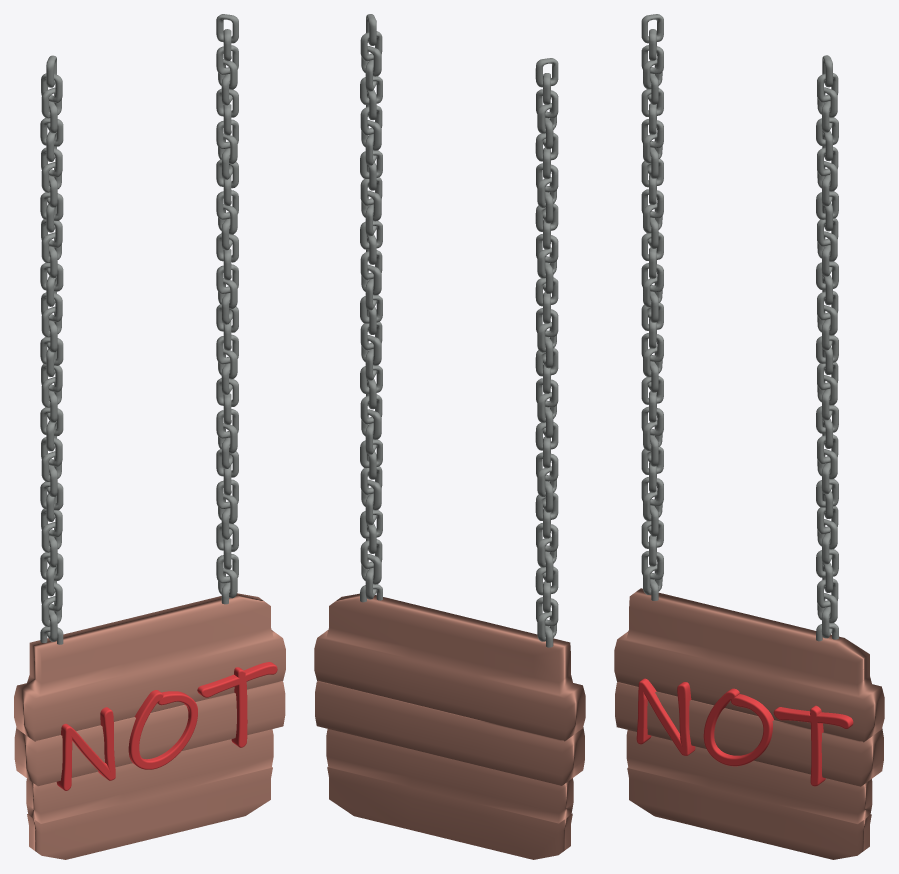
The model's file is SmallSign.fbx.
3 renders of one model, left to right at view 1: azimuth 30°, elevation 25°; view 2: azimuth 150°, elevation 25°; view 3: azimuth 330°, elevation 25°, orthographic.
Visible parts, largest first — view 1: Cube.013, Cube.014; view 2: Cube.013, Cube.014; view 3: Cube.013, Cube.014.
Part boxes in pixels (bbox=[...]): Cube.013: bbox=[14, 593, 285, 859]; Cube.014: bbox=[40, 14, 238, 644]; Cube.013: bbox=[314, 593, 585, 859]; Cube.014: bbox=[360, 14, 558, 647]; Cube.013: bbox=[614, 588, 884, 859]; Cube.014: bbox=[641, 14, 838, 641].
Bounding box in the file's own units: 78.83 × 239 × 13.7.
